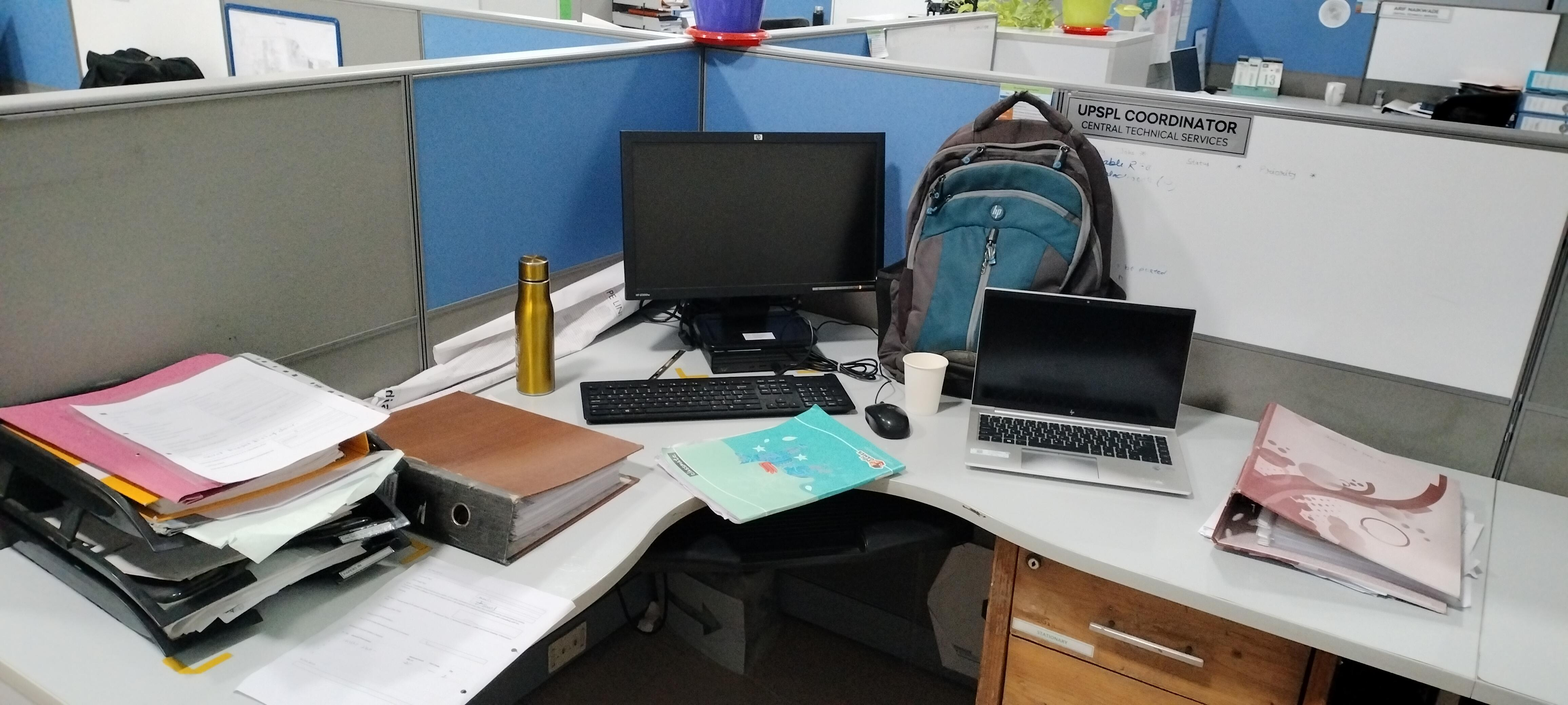bag: (872, 87, 1118, 405)
book: (645, 400, 923, 540)
bottle: (507, 243, 566, 403)
desktop: (610, 122, 888, 369)
file: (1193, 386, 1492, 637), (371, 383, 655, 574)
filetray: (3, 343, 418, 666)
keyboard: (576, 372, 859, 427)
laptop: (963, 280, 1204, 506)
mouse: (861, 395, 916, 444)
mug: (899, 346, 950, 420)
nameplate: (1062, 90, 1259, 163)
page: (225, 547, 591, 705)
vase: (676, 0, 773, 57)
